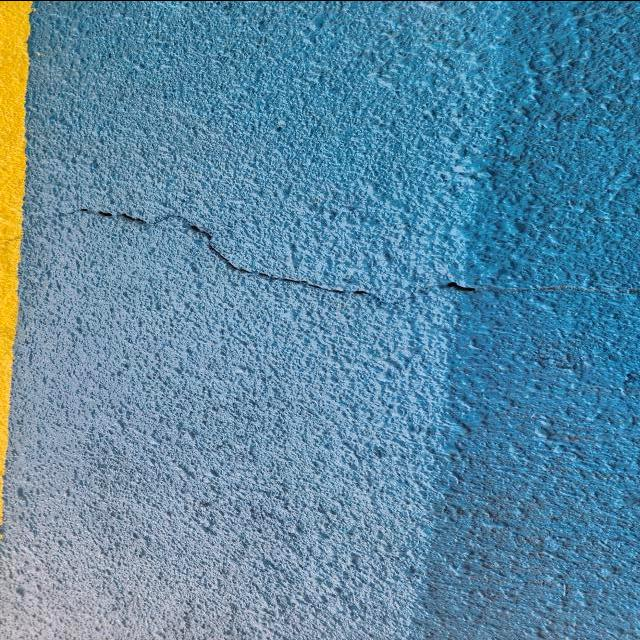SurfaceCrack: (25, 157, 640, 343)
